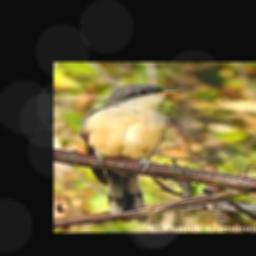Cuckoo: (78, 85, 185, 223)
